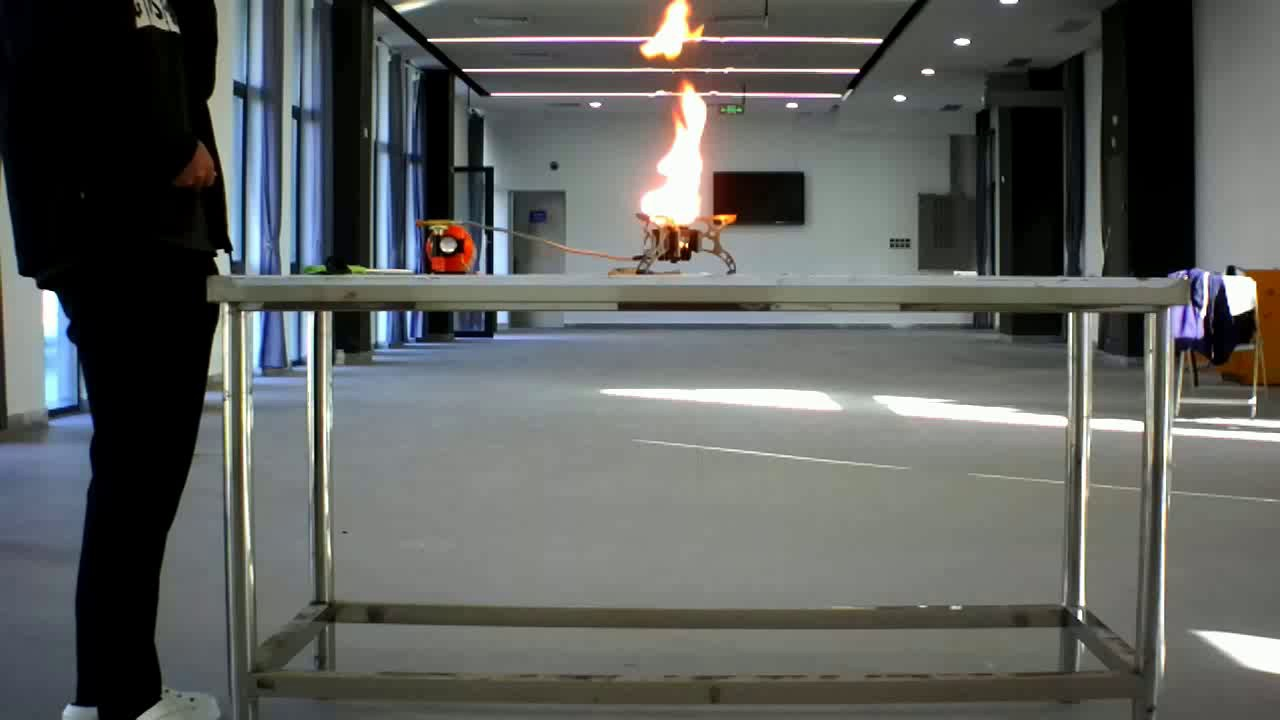Fire: (621, 0, 748, 265)
